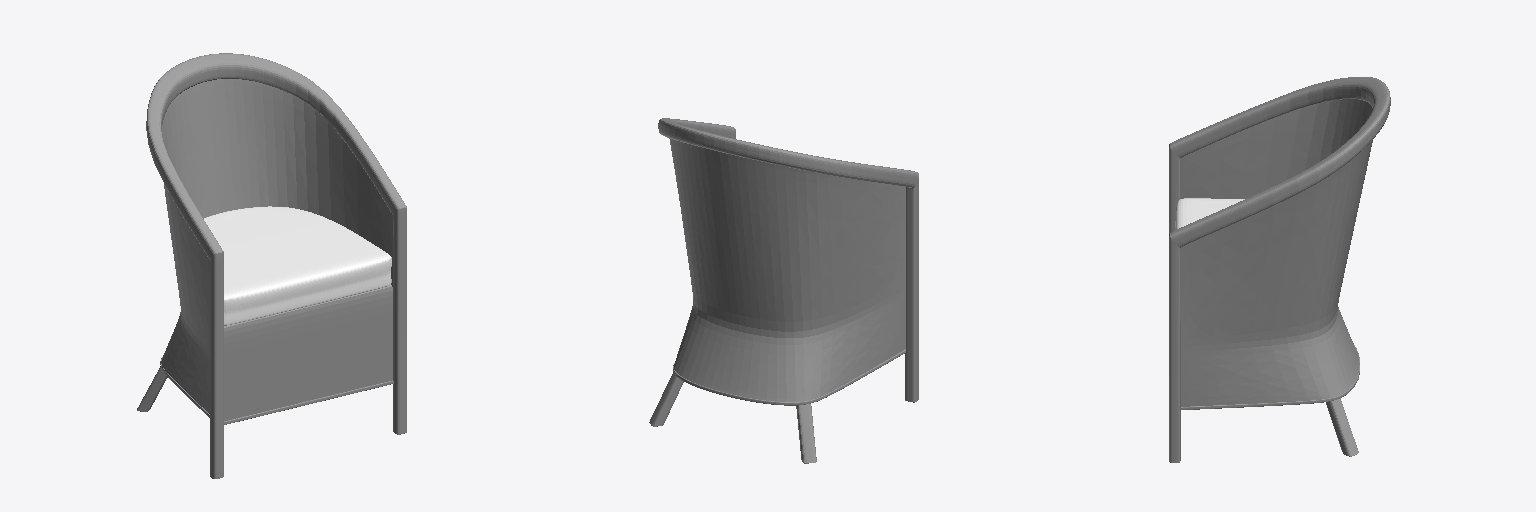
Rendered from wicker-armchair.obj.
3 renders of one model, left to right at view 1: azimuth 30°, elevation 25°; view 2: azimuth 150°, elevation 25°; view 3: azimuth 270°, elevation 25°, orthographic.
Parts seen in each view (by area): view 1: Cube.001_Cube.002, Cube.002_Cube.004, Cube.003_Cube.008, Cube.008_Cube.001, Cube.007_Cube.000, Cube.000_Cube.005, Cube.006_Cube.010; view 2: Cube.001_Cube.002, Cube.007_Cube.000, Cube.002_Cube.004, Cube.004_Cube.007, Cube.005_Cube.009; view 3: Cube.001_Cube.002, Cube.002_Cube.004, Cube.007_Cube.000, Cube.003_Cube.008, Cube.004_Cube.007, Cube.005_Cube.009.
Boxes of the visible parts, box(x1,y1,x2,y2) form: Cube.001_Cube.002: box(161, 79, 392, 413); Cube.002_Cube.004: box(146, 53, 406, 478); Cube.003_Cube.008: box(204, 206, 391, 325); Cube.008_Cube.001: box(224, 285, 392, 420); Cube.007_Cube.000: box(162, 79, 392, 410); Cube.000_Cube.005: box(224, 285, 392, 419); Cube.006_Cube.010: box(224, 380, 393, 424); Cube.001_Cube.002: box(669, 138, 905, 401); Cube.007_Cube.000: box(670, 140, 905, 401); Cube.002_Cube.004: box(658, 118, 918, 402); Cube.004_Cube.007: box(649, 372, 816, 463); Cube.005_Cube.009: box(673, 349, 905, 405); Cube.001_Cube.002: box(1180, 99, 1372, 406); Cube.002_Cube.004: box(1169, 77, 1390, 462); Cube.007_Cube.000: box(1180, 99, 1372, 406); Cube.003_Cube.008: box(1175, 198, 1244, 229); Cube.004_Cube.007: box(1326, 378, 1358, 456); Cube.005_Cube.009: box(1181, 345, 1359, 409).
Bounding box in the file's own units: 0.552 × 0.8712 × 0.5452.